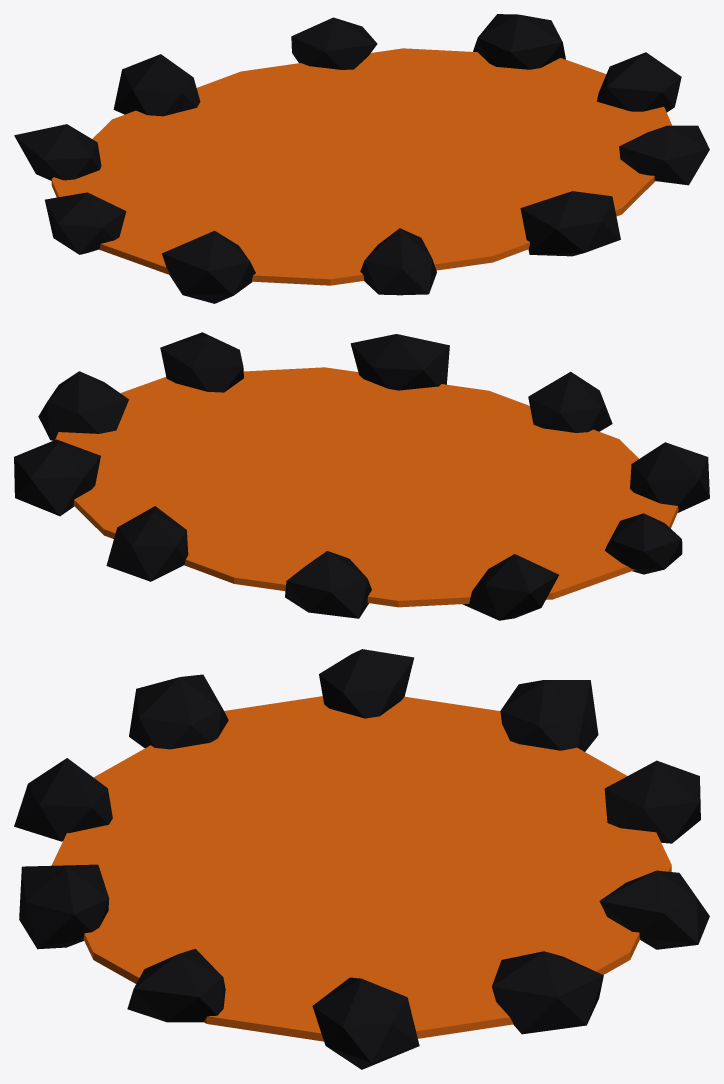
The model's file is SM_GZ_lava_pool.fbx.
3 views of the same model, one above another, from view 1: azimuth 30°, elevation 25°; view 2: azimuth 150°, elevation 25°; view 3: azimuth 270°, elevation 25° (orthographic). The views are drawn at different scales.
Parts seen in each view (by area): view 1: SM_GZ_lava_pool; view 2: SM_GZ_lava_pool; view 3: SM_GZ_lava_pool.
Boxes of the visible parts, x1,y1,x2,y2 form: SM_GZ_lava_pool: (14,14,709,303); SM_GZ_lava_pool: (14,332,709,620); SM_GZ_lava_pool: (14,649,709,1069).
Size of the model in its own units: 1036 by 119 by 808.
